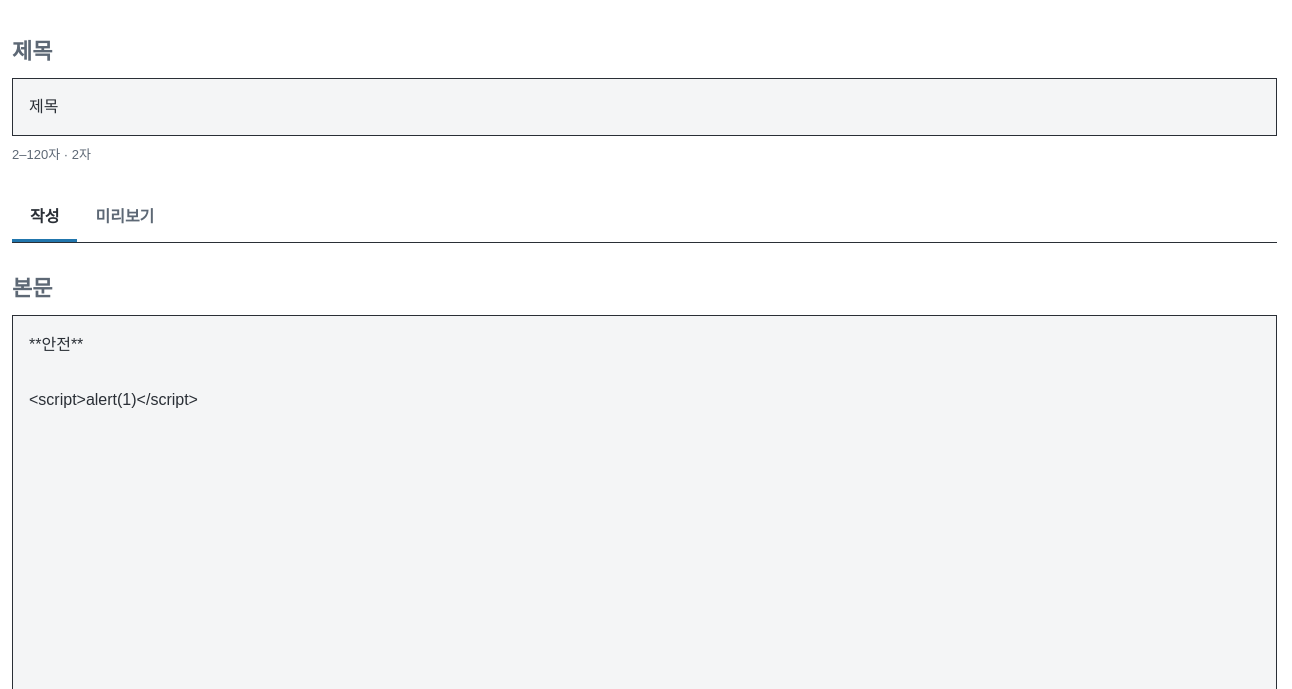
Test: PostEditor › renders a sanitized keyboard-accessible preview without raw HTML execution
Step 1. Click the tab "미리보기" → (125, 218), box [78, 194, 172, 242]
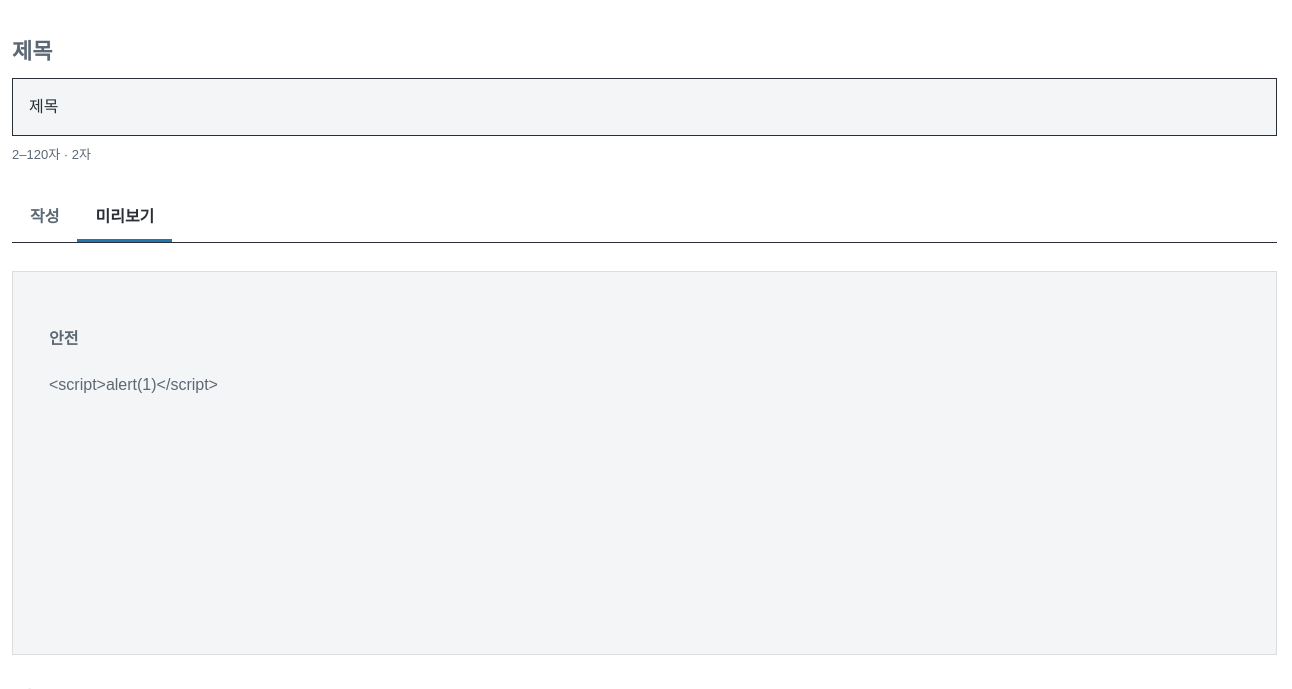
Expected: the text "안전" is shown, [49, 330, 78, 347]
